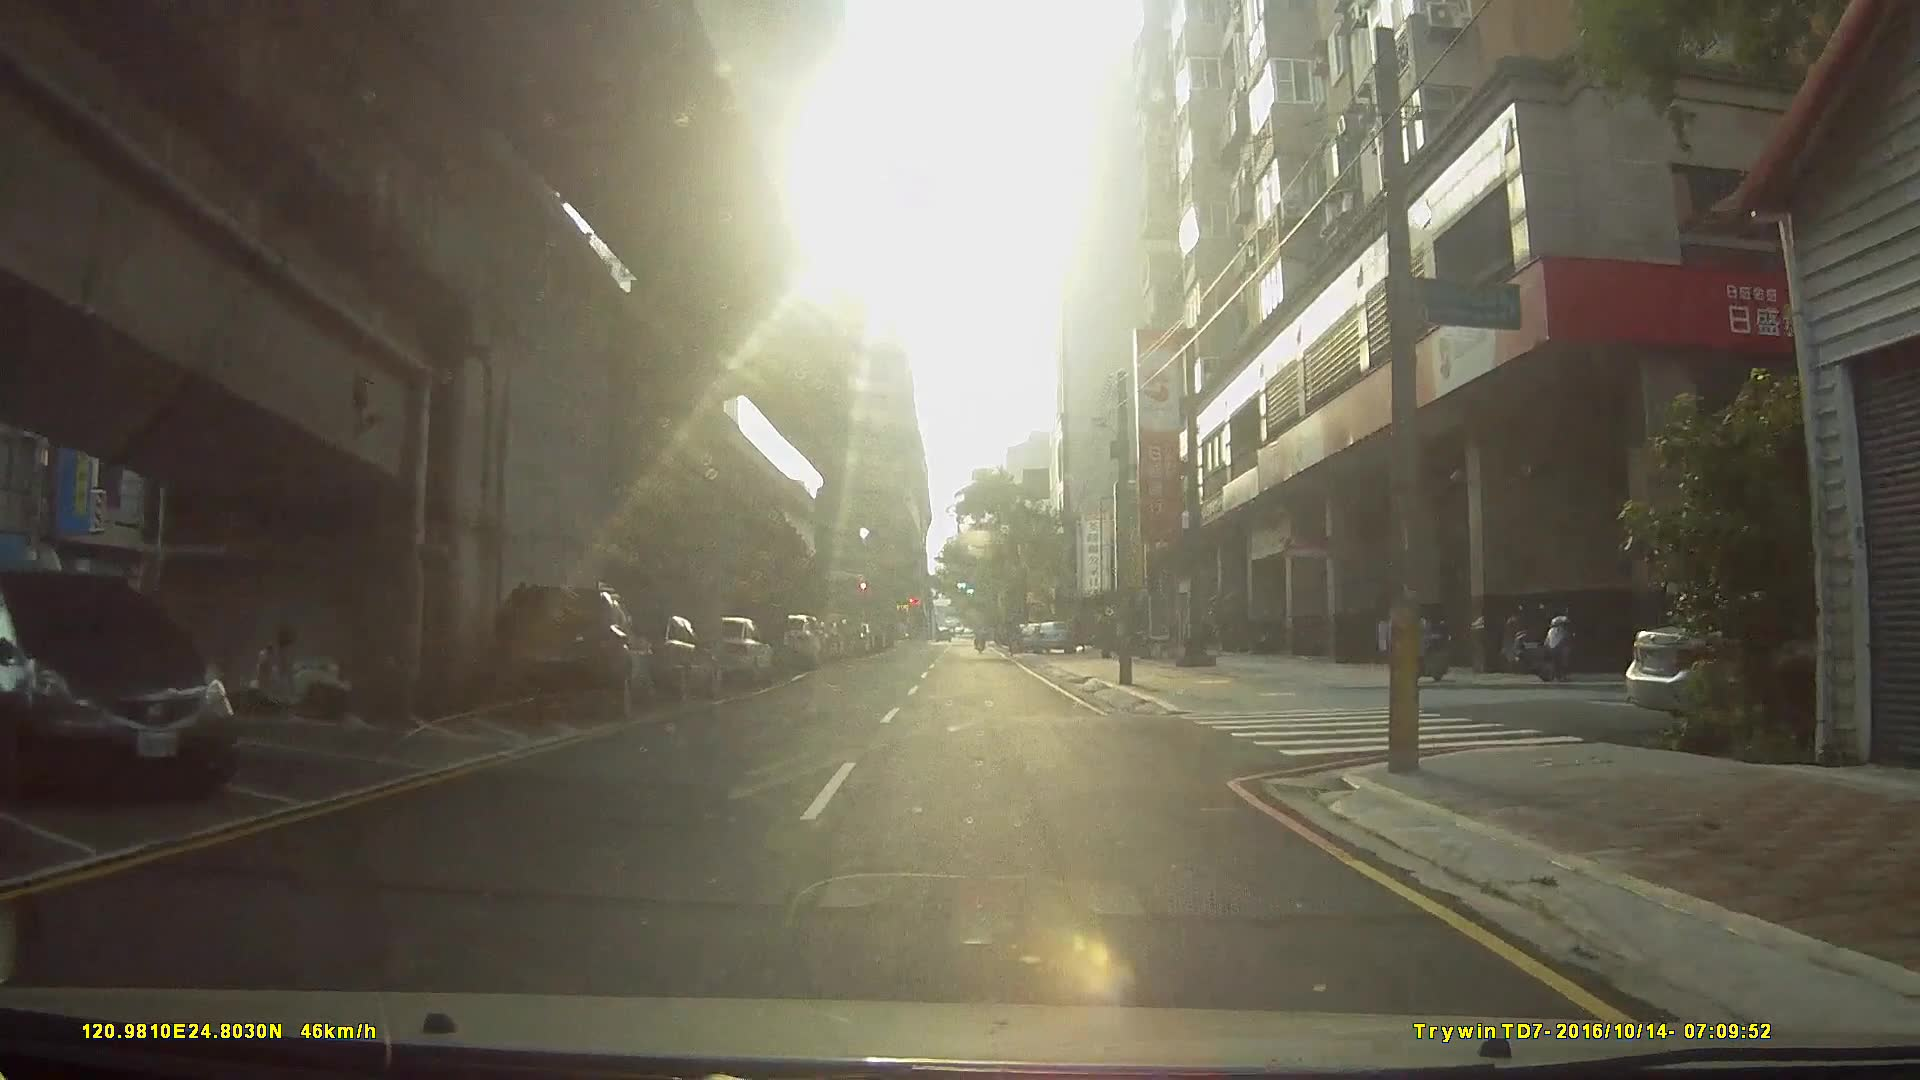vehicle: (0, 574, 235, 802), (481, 582, 654, 723), (582, 612, 719, 705), (659, 620, 794, 670), (688, 615, 773, 691), (1029, 621, 1075, 655)
